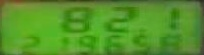-: (133, 23, 151, 32)
1: (164, 4, 180, 29), (53, 34, 69, 54)
2: (102, 4, 131, 30), (18, 32, 38, 52)
5: (129, 33, 153, 53)
6: (102, 32, 122, 53)
8: (58, 4, 93, 31), (157, 32, 182, 52)
9: (71, 33, 95, 53)
